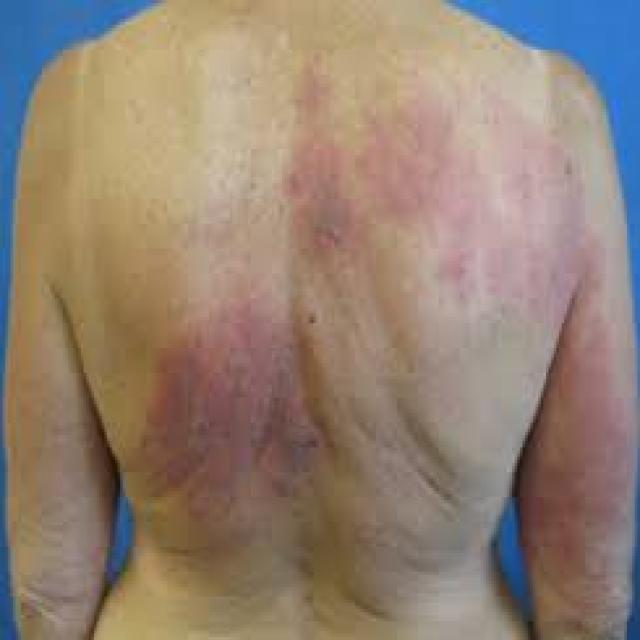Shingles: (283, 52, 629, 568), (133, 303, 316, 507)
